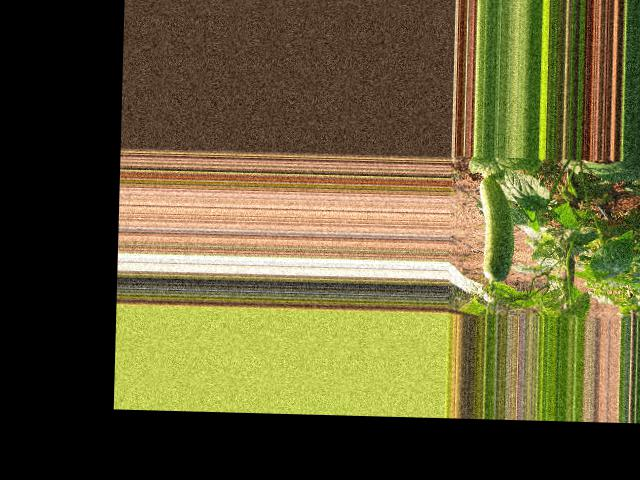cucumber: (476, 177, 515, 281)
